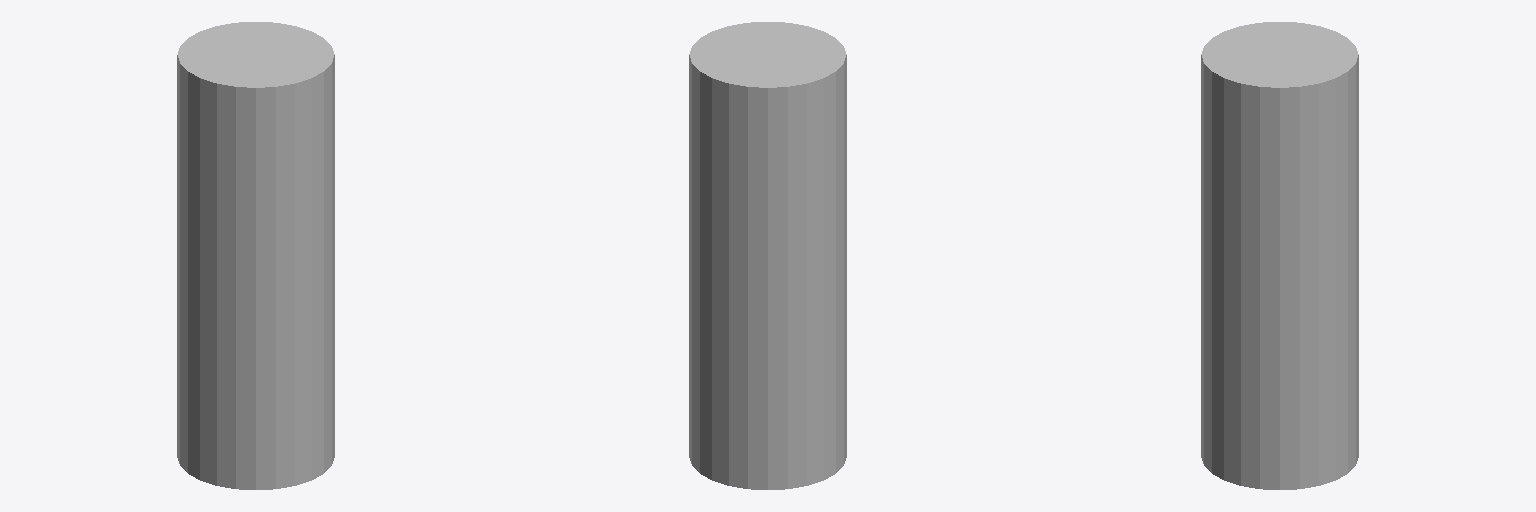
The model's file is original-42.obj.
3 renders of one model, left to right at view 1: azimuth 30°, elevation 25°; view 2: azimuth 150°, elevation 25°; view 3: azimuth 270°, elevation 25°, orthographic.
Parts seen in each view (by area): view 1: #ID1033; view 2: #ID1033; view 3: #ID1033.
Boxes of the visible parts, x1,y1,x2,y2 form: #ID1033: [177, 22, 334, 489]; #ID1033: [689, 22, 846, 489]; #ID1033: [1201, 22, 1358, 489].
Bounding box in the file's own units: 0.0068 × 0.0193 × 0.0068.